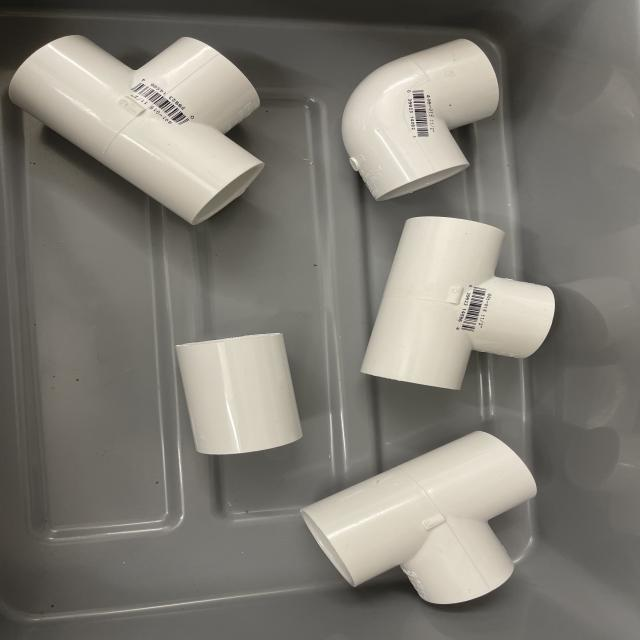L Joint: (341, 39, 501, 202)
T Joint: (7, 36, 264, 228), (299, 431, 537, 606), (360, 217, 557, 393)
